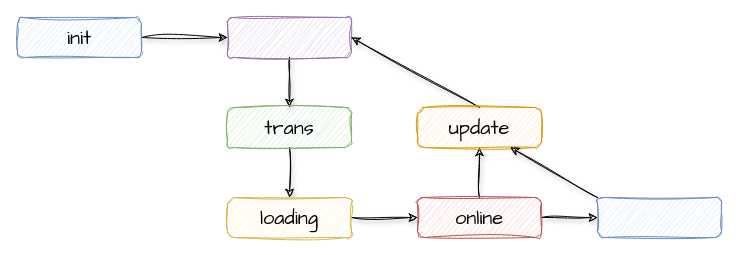
Image size: 739x255. Some labels were removed from this diagram. The shapes that lost their labels are listed below. From the top down, each one's centre as x and y in pixels, then its label:
At point 289,37: "building".
At point 659,217: "offline".
